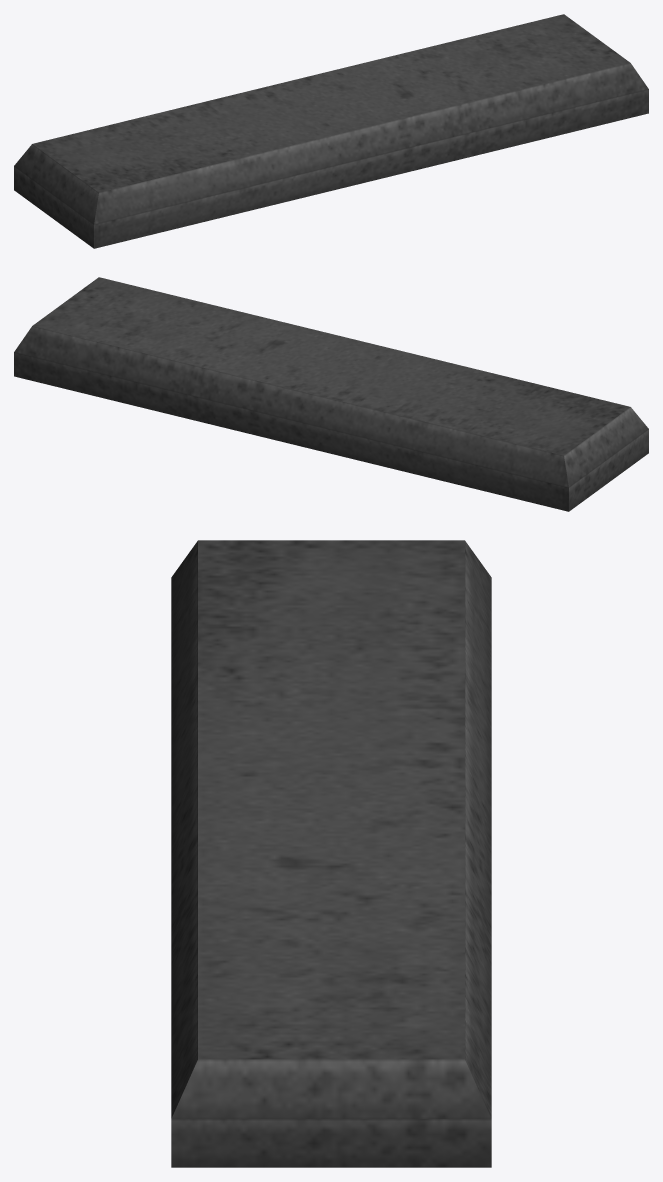
Rendered from ceiling_lamp_4_on.dae.
3 renders of one model, top to bottom at view 1: azimuth 30°, elevation 25°; view 2: azimuth 150°, elevation 25°; view 3: azimuth 270°, elevation 25°, orthographic. The views are drawn at different scales.
Visible parts, largest first — view 1: ceiling_lamp_4_on; view 2: ceiling_lamp_4_on; view 3: ceiling_lamp_4_on.
Part boxes in pixels (left/top/right/bottom): ceiling_lamp_4_on: left=14, top=14, right=648, bottom=248; ceiling_lamp_4_on: left=14, top=277, right=648, bottom=511; ceiling_lamp_4_on: left=171, top=540, right=491, bottom=1167.
Size of the model in its own units: 1.2 by 0.3 by 0.1.
Materials: 1 (1 with a texture image).
